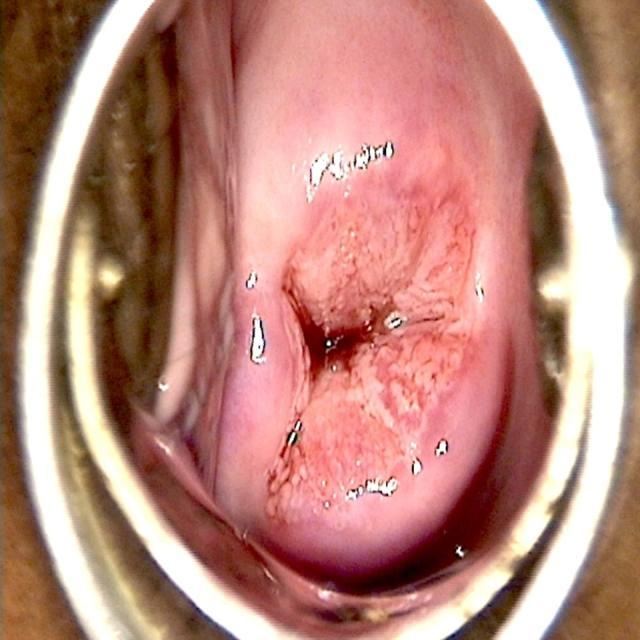cervical_lesion: (216, 103, 508, 548)
